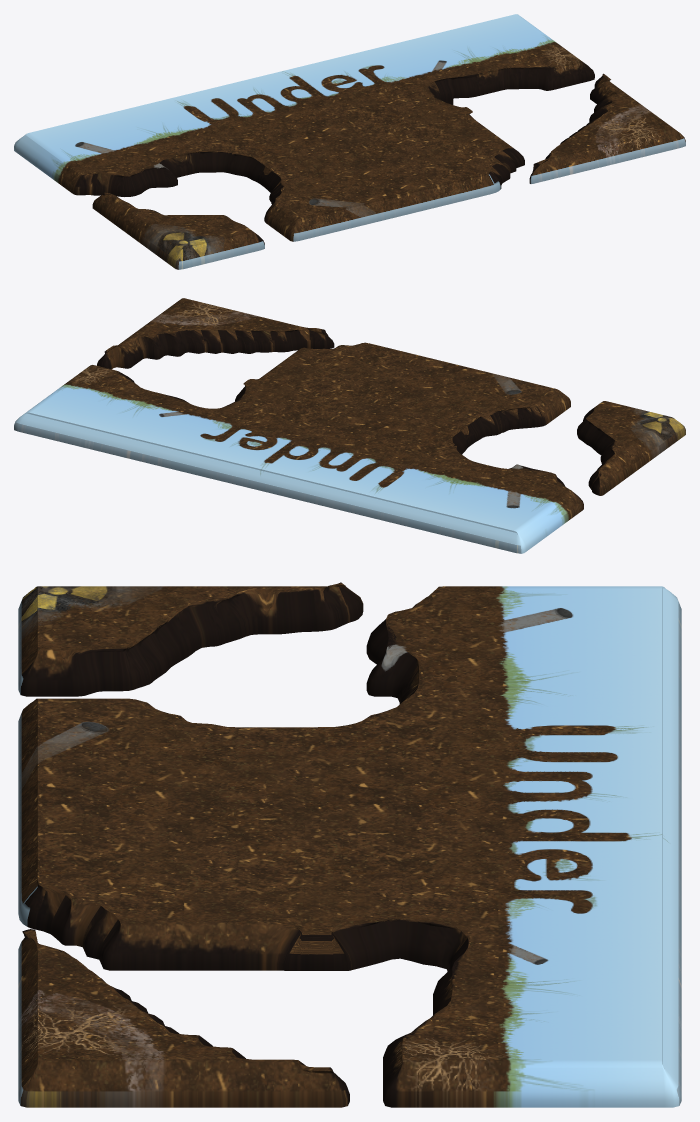
3 views of the same model, one above another, from view 1: azimuth 30°, elevation 25°; view 2: azimuth 150°, elevation 25°; view 3: azimuth 270°, elevation 25° (orthographic). The views are drawn at different scales.
Visible parts, largest first — view 1: Plan; view 2: Plan; view 3: Plan.
Boxes of the visible parts, <box> form: Plan: <box>14,14,685,269</box>; Plan: <box>14,298,685,553</box>; Plan: <box>18,582,681,1107</box>.
Bounding box in the file's own units: 1920 × 86 × 1080.
Materials: 1 (1 with a texture image).
